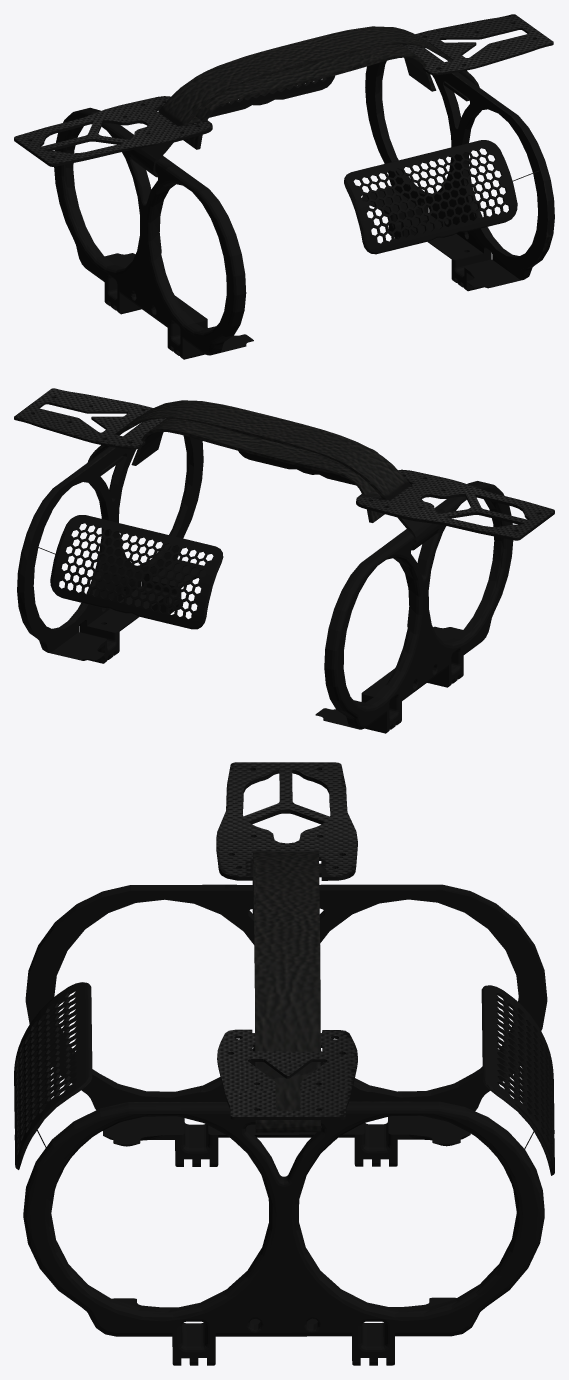
Rendered from ylo2_textured_body.dae.
3 renders of one model, top to bottom at view 1: azimuth 30°, elevation 25°; view 2: azimuth 150°, elevation 25°; view 3: azimuth 270°, elevation 25°, orthographic. The views are drawn at different scales.
Parts seen in each view (by area): view 1: body_parts; view 2: body_parts; view 3: body_parts.
Boxes of the visible parts, <box> form: body_parts: <box>14,14,554,359</box>; body_parts: <box>14,388,554,733</box>; body_parts: <box>14,762,554,1365</box>.
Size of the model in its own units: 0.3904 by 0.2521 by 0.1793.
Materials: 1 (1 with a texture image).
